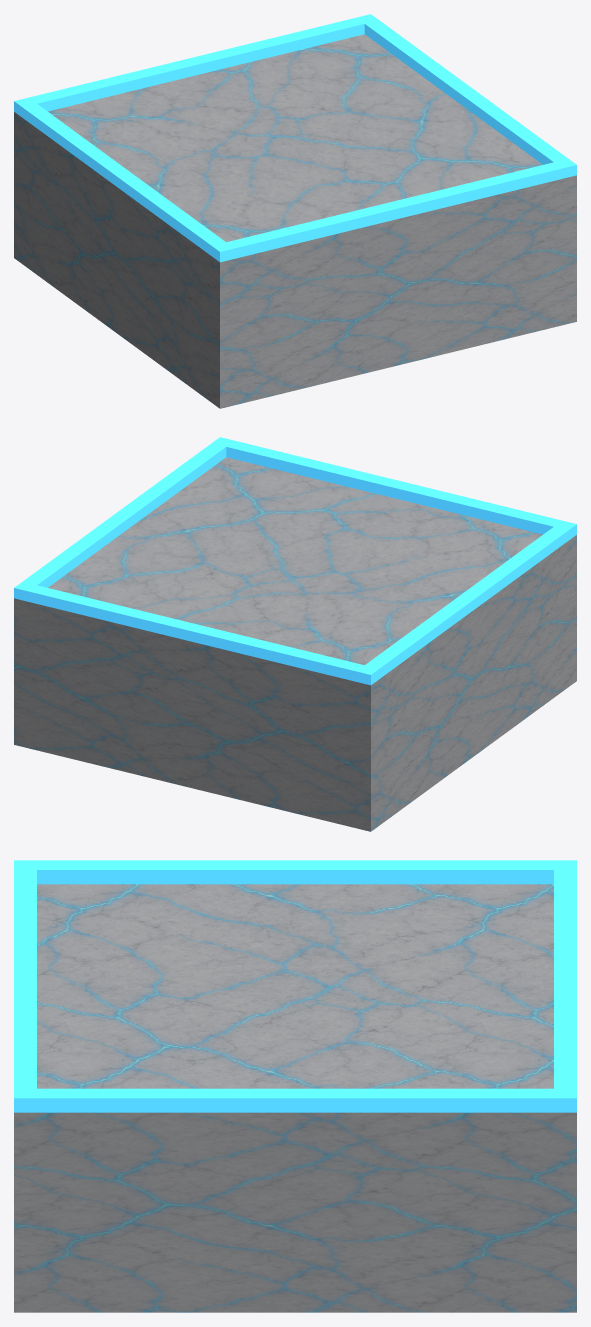
3 renders of one model, top to bottom at view 1: azimuth 30°, elevation 25°; view 2: azimuth 150°, elevation 25°; view 3: azimuth 270°, elevation 25°, orthographic. The views are drawn at different scales.
Parts seen in each view (by area): view 1: cube-plateform; view 2: cube-plateform; view 3: cube-plateform.
Part boxes in pixels (x1=…): cube-plateform: x1=14, y1=14, x2=576, y2=408; cube-plateform: x1=14, y1=437, x2=576, y2=831; cube-plateform: x1=14, y1=860, x2=576, y2=1312.
Bounding box in the file's own units: 5.1 × 2.14 × 5.1.
2 materials, 1 textured.
